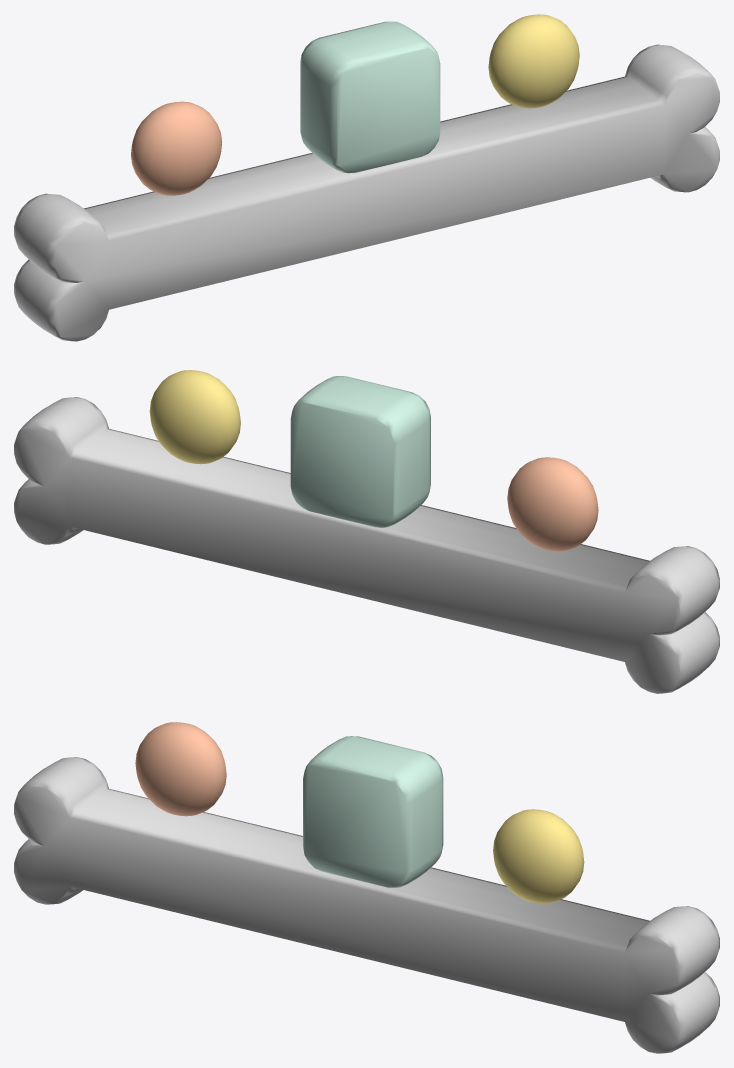
File: decor_5_classic.glb
The picture shows the model from 3 angles, top to bottom: view 1: azimuth 30°, elevation 25°; view 2: azimuth 150°, elevation 25°; view 3: azimuth 330°, elevation 25°; orthographic projection.
Parts seen in each view (by area): view 1: decor_5_classic; view 2: decor_5_classic; view 3: decor_5_classic.
Part boxes in pixels (x1,y1,x2,y2): decor_5_classic: [14, 14, 719, 341]; decor_5_classic: [14, 370, 719, 693]; decor_5_classic: [14, 722, 719, 1053].
Size of the model in its own units: 14.33 by 4.35 by 1.45.
